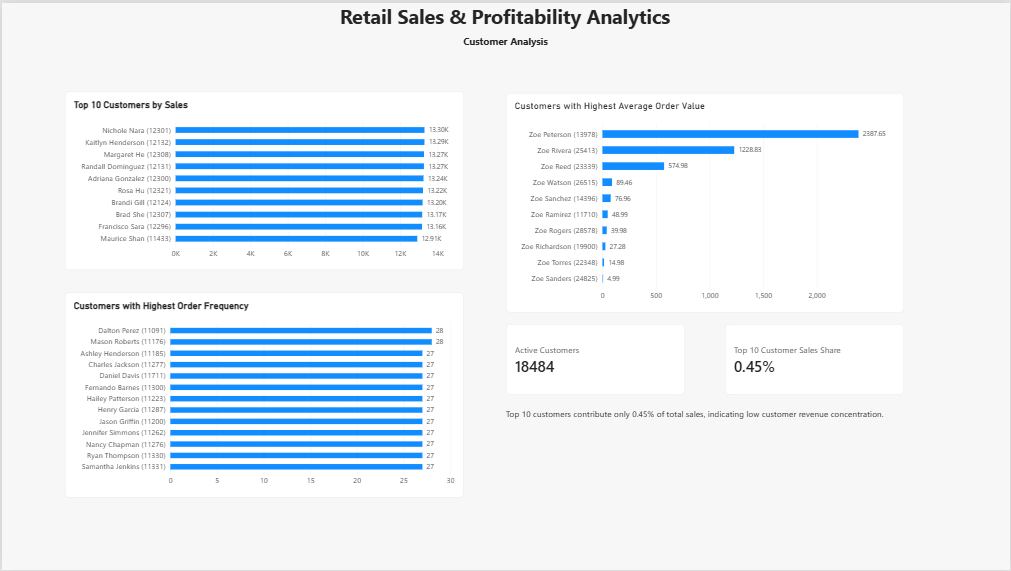

This screenshot's page, from the dashboard's own definition file:
{"tool":"powerbi","page":{"name":"Customer Analysis","canvas":[1920,1080],"ordinal":2},"visuals":[{"type":"textbox","box":[615.6,0,687.1,59.6],"z":0},{"type":"textbox","box":[808.8,59.6,300.6,35.8],"z":1},{"type":"clusteredBarChart","title":"Top 10 Customers by Sales","fields":{"Category":["DimCustomer.CustomerLabel"],"Y":["FactInternetSales.Total Sales"]},"box":[120,170,760,340],"z":2},{"type":"clusteredBarChart","title":"Customers with Highest Order Frequency","fields":{"Category":["DimCustomer.CustomerLabel"],"Y":["FactInternetSales.Total Orders"]},"box":[120.3,550,759.5,390.5],"z":3},{"type":"clusteredBarChart","title":"Customers with Highest Average Order Value","fields":{"Category":["DimCustomer.CustomerLabel"],"Y":["FactInternetSales.Average Order Value"]},"box":[960,171.1,757.8,417.8],"z":4},{"type":"cardVisual","fields":{"Data":["FactInternetSales.Active Customers"]},"box":[960,611.1,340,135],"z":5},{"type":"cardVisual","fields":{"Data":["FactInternetSales.Top 10 Customer Sales Share"]},"box":[1377.8,611.1,340,135],"z":6},{"type":"textbox","box":[960,771.1,740,120],"z":7}]}

Visuals, with their boxes in screenshot pixels (x1, y1, x2, y2), scaled from the page's 1920x1080 canvas onto the 1011x571 screenshot:
textbox: [x1=324, y1=0, x2=686, y2=32]
textbox: [x1=426, y1=32, x2=584, y2=50]
"Top 10 Customers by Sales" clusteredBarChart: [x1=63, y1=90, x2=463, y2=270]
"Customers with Highest Order Frequency" clusteredBarChart: [x1=63, y1=291, x2=463, y2=497]
"Customers with Highest Average Order Value" clusteredBarChart: [x1=506, y1=90, x2=905, y2=311]
cardVisual - FactInternetSales.Active Customers: [x1=506, y1=323, x2=685, y2=394]
cardVisual - FactInternetSales.Top 10 Customer Sales Share: [x1=725, y1=323, x2=905, y2=394]
textbox: [x1=506, y1=408, x2=895, y2=471]
